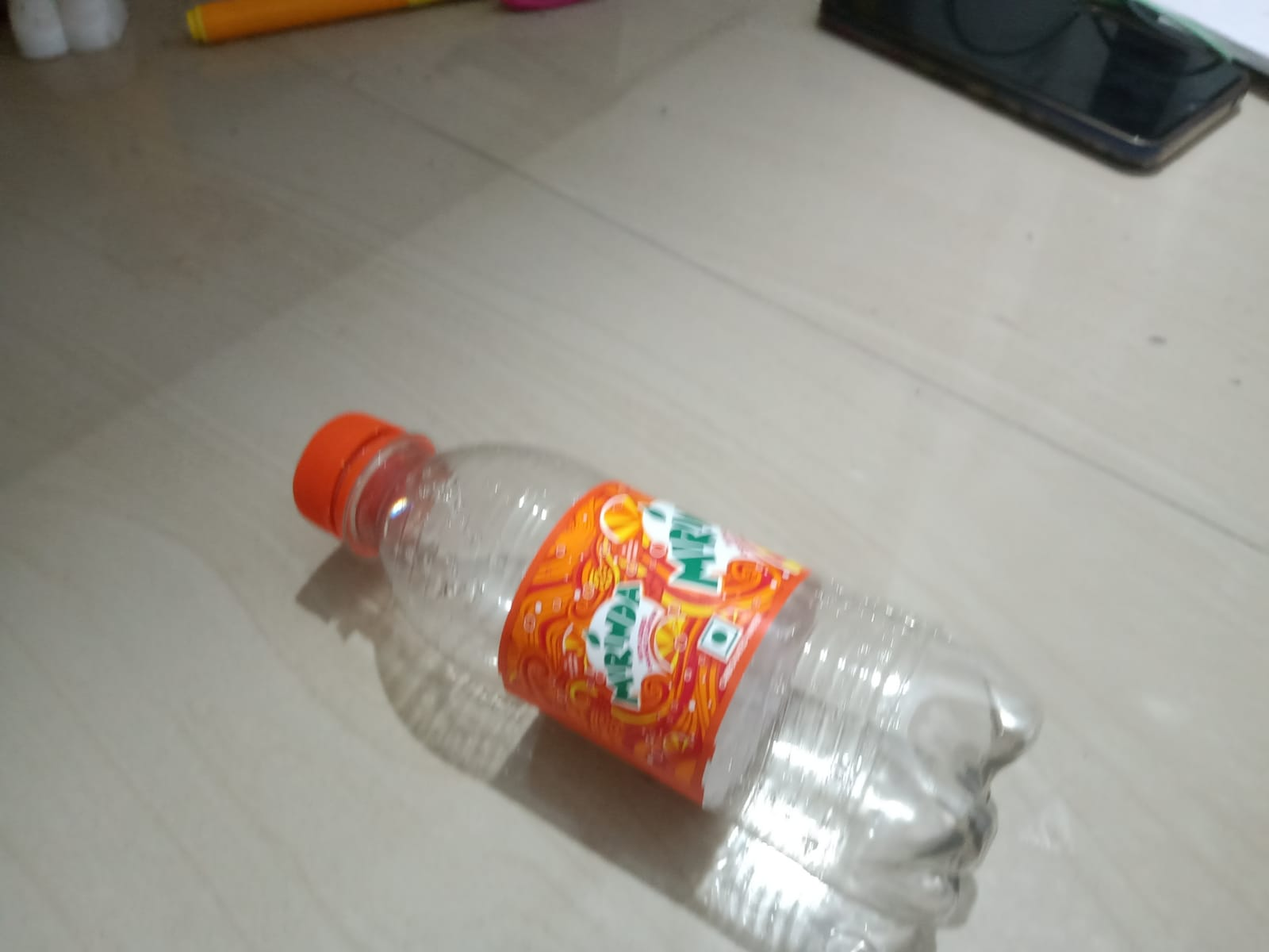plastic: (226, 403, 1035, 900)
